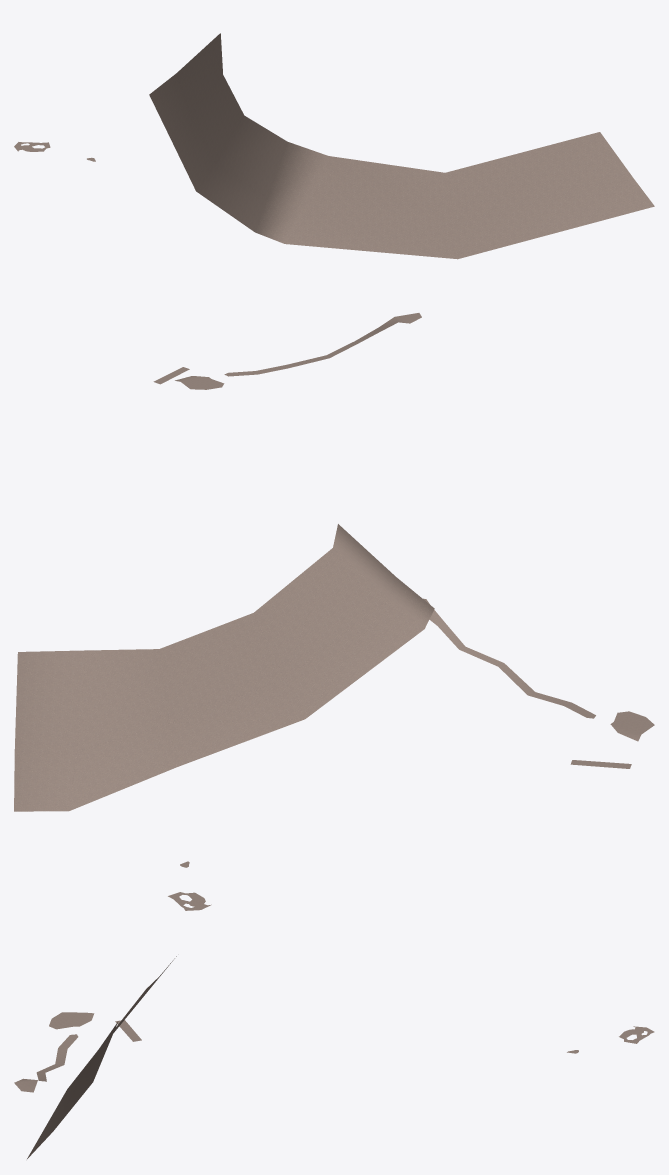
File: kd_stage_1363c5_6_14.glb
3 renders of one model, top to bottom at view 1: azimuth 30°, elevation 25°; view 2: azimuth 150°, elevation 25°; view 3: azimuth 270°, elevation 25°, orthographic. The views are drawn at different scales.
Visible parts, largest first — view 1: kd_stage_1363c5_6_14; view 2: kd_stage_1363c5_6_14; view 3: kd_stage_1363c5_6_14.
Boxes of the visible parts, <box> form: kd_stage_1363c5_6_14: <box>14,33,654,389</box>; kd_stage_1363c5_6_14: <box>14,524,654,910</box>; kd_stage_1363c5_6_14: <box>14,956,654,1158</box>.
Bounding box in the file's own units: 259 × 87.4 × 284.
Materials: 1 (1 with a texture image).
